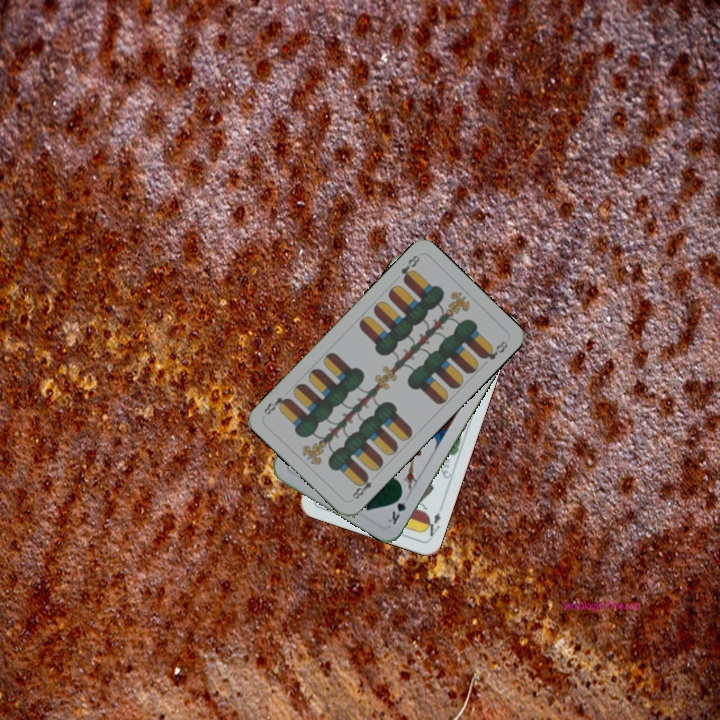E8: (396, 251, 422, 285), (348, 470, 374, 502)
EA: (420, 502, 445, 541)
GK: (383, 488, 409, 527)
